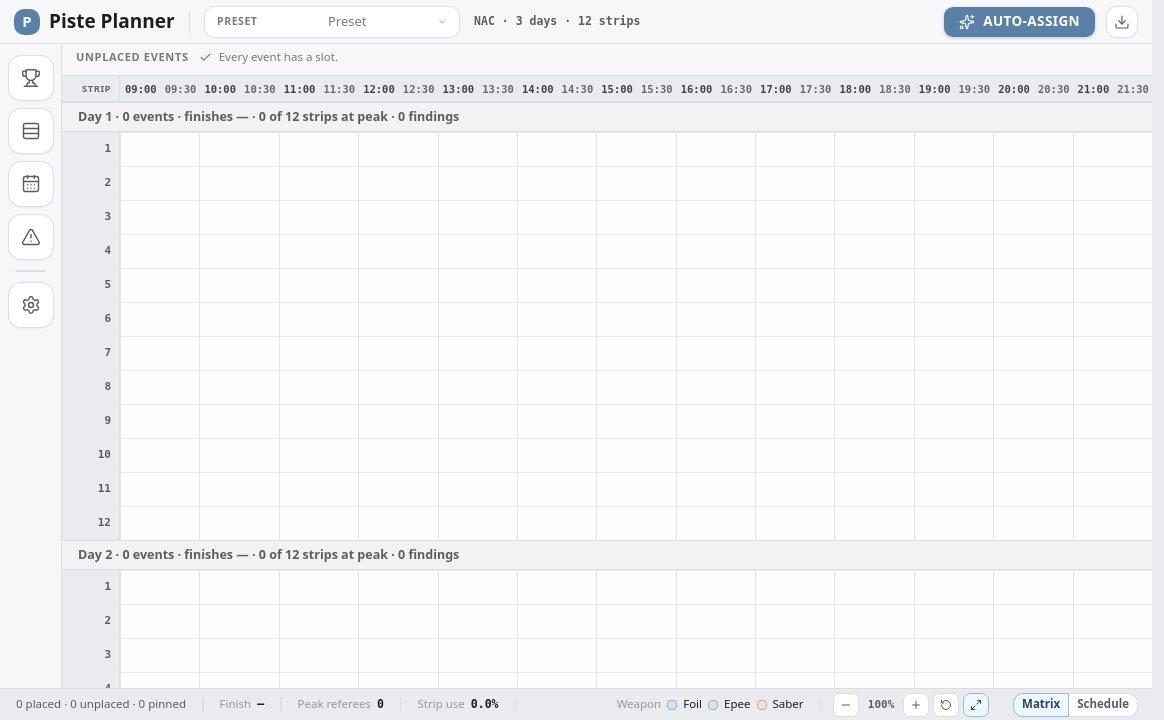
it: WorkbenchShell regions › mounts exactly one inspector panel once a rail button is pressed
Click the button named "Tournament": (30, 78) [8,55,54,101]
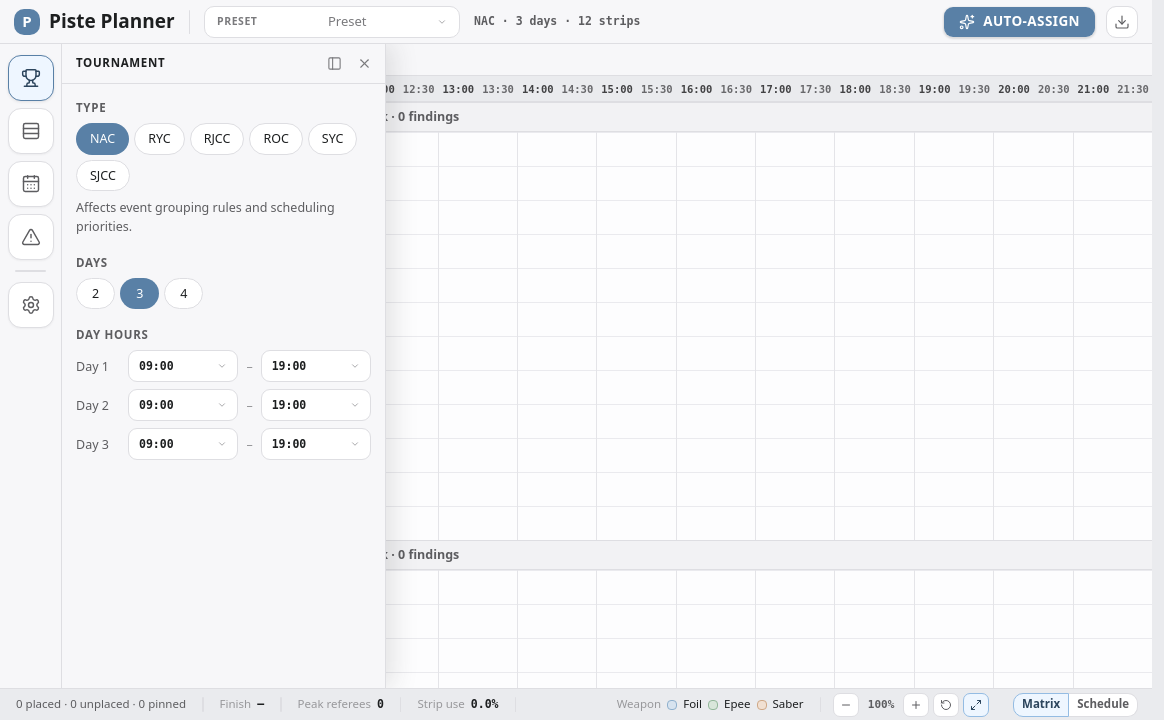
Expected: the number of elements named "Inspector panel" is 1, [62,44,386,688]
